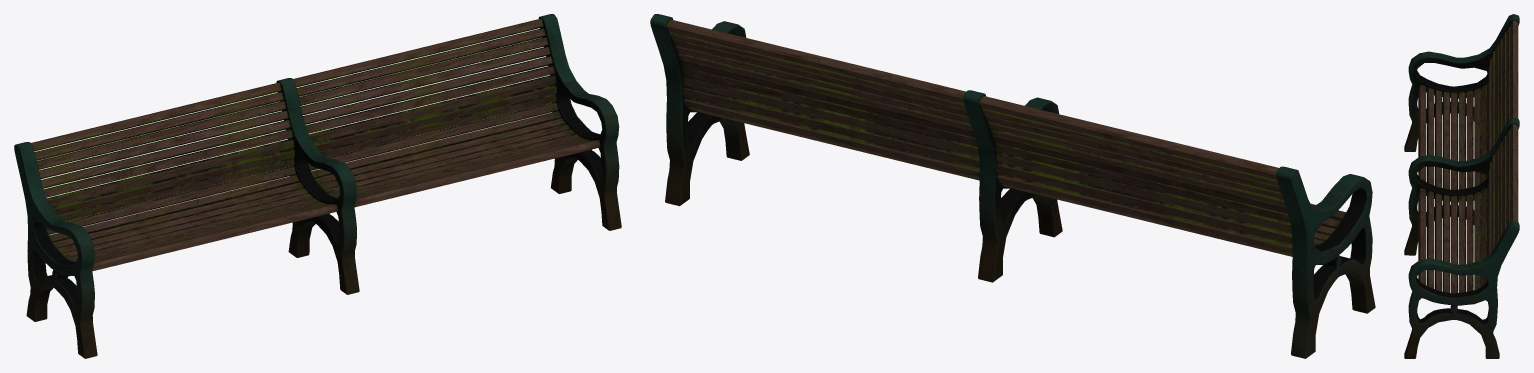
The model's file is park-bench.glb.
3 renders of one model, left to right at view 1: azimuth 30°, elevation 25°; view 2: azimuth 150°, elevation 25°; view 3: azimuth 270°, elevation 25°, orthographic. The views are drawn at different scales.
Visible parts, largest first — view 1: Bench; view 2: Bench; view 3: Bench.
Boxes of the visible parts, left/top/right/bottom form: Bench: left=14, top=14, right=621, bottom=358; Bench: left=650, top=14, right=1375, bottom=358; Bench: left=1404, top=14, right=1519, bottom=358.
Bounding box in the file's own units: 205 × 60.11 × 47.01.
2 materials, 2 textured.
